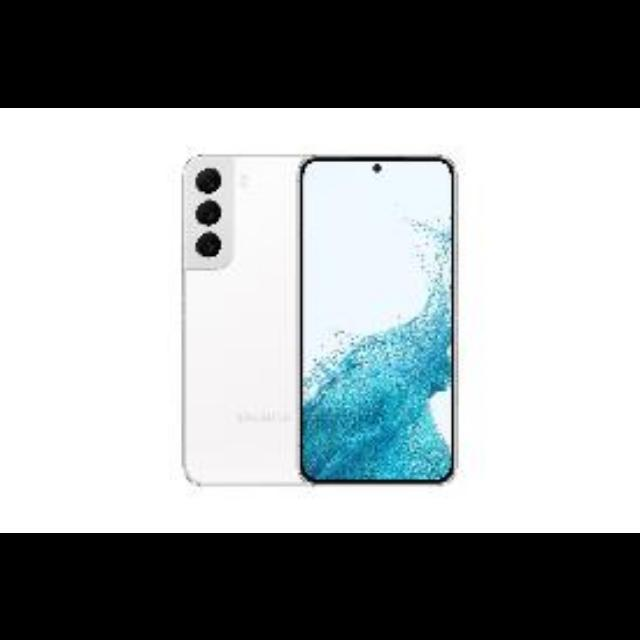Phone: (302, 156, 456, 486), (182, 153, 298, 485)
